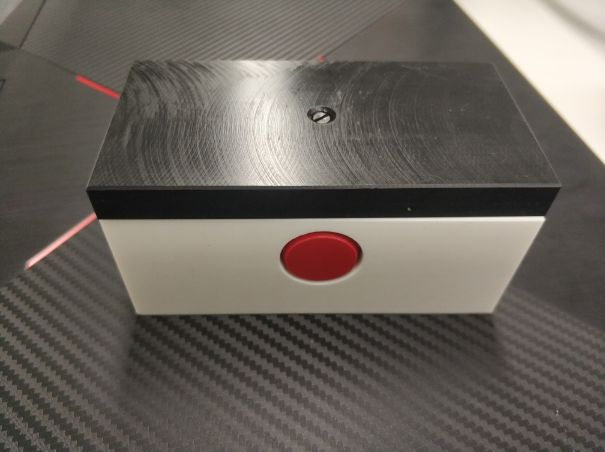black+white+red: (82, 56, 567, 322)
